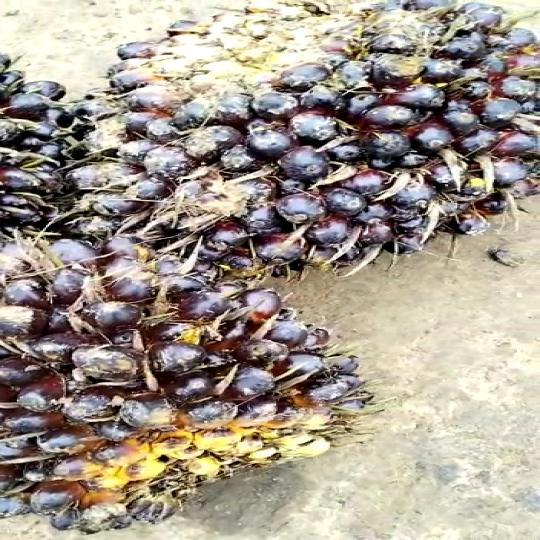mentah: (96, 2, 540, 288), (0, 238, 371, 526)
